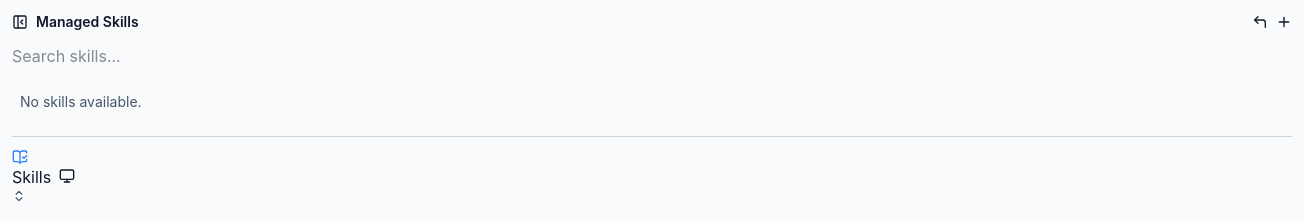
Scenario: shows Setup in the shared page switcher when setup is opened from Skills
This screenshot has width=1304, height=220.
Click the button with aria-label "Switch page, current page Skills" at (32, 176), box left=12, top=149, right=51, bottom=203
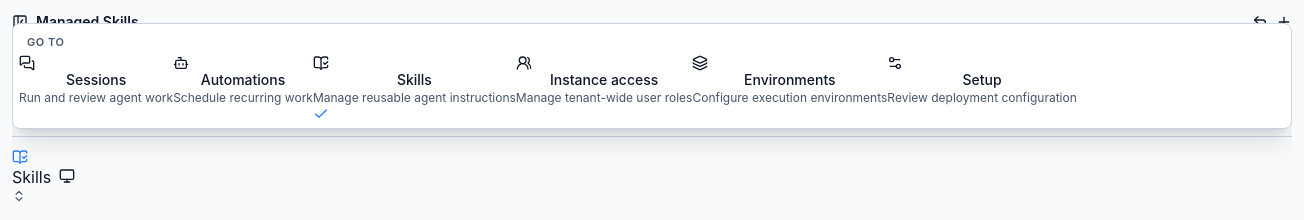
Click the menu item "Setup Review deployment configuration" at (982, 80), box left=887, top=54, right=1077, bottom=106
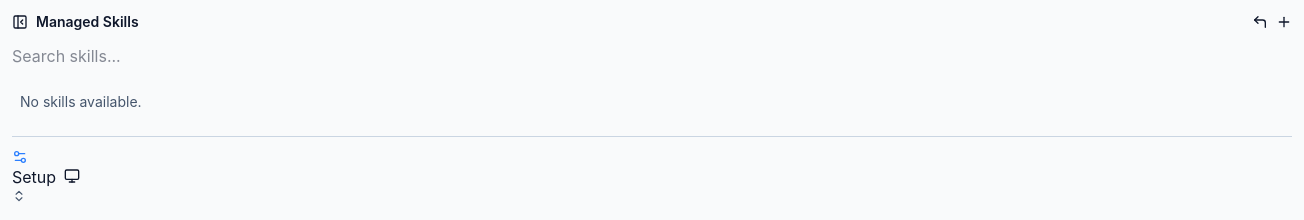
Expected: the button with aria-label "Switch page, current page Setup" is shown, left=12, top=149, right=56, bottom=203
